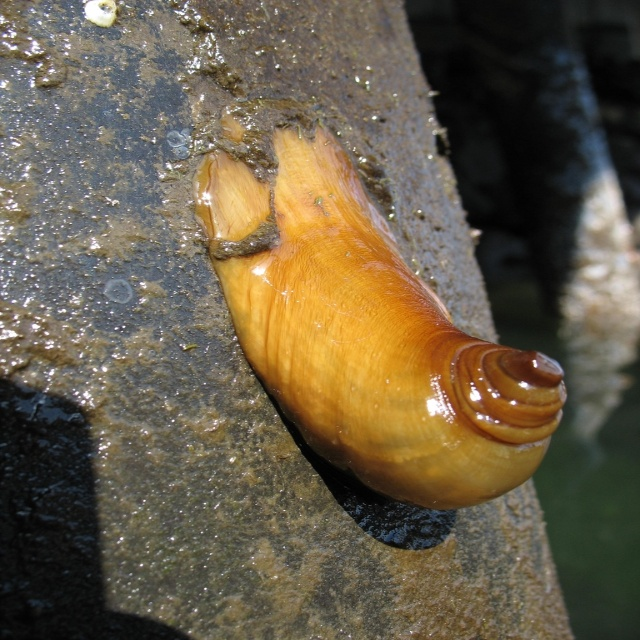Snail: (191, 98, 567, 510)
